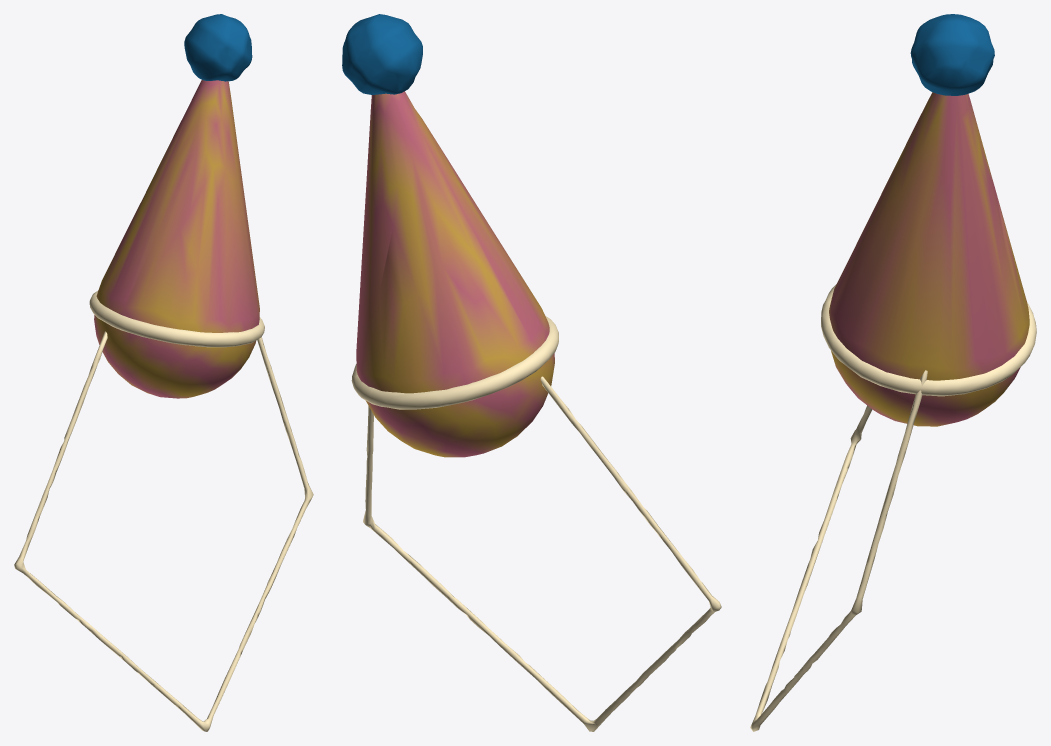
The model's file is nonsinhnhat.glb.
3 renders of one model, left to right at view 1: azimuth 30°, elevation 25°; view 2: azimuth 150°, elevation 25°; view 3: azimuth 270°, elevation 25°, orthographic. The views are drawn at different scales.
Parts seen in each view (by area): view 1: Non_SN, Thun_SN, Bong_SN, Vien_SN; view 2: Non_SN, Thun_SN, Bong_SN, Vien_SN; view 3: Non_SN, Bong_SN, Thun_SN, Vien_SN.
Boxes of the visible parts, x1,y1,x2,y2 form: Non_SN: [94, 80, 259, 398]; Thun_SN: [14, 331, 313, 731]; Bong_SN: [184, 14, 252, 81]; Vien_SN: [89, 290, 264, 347]; Non_SN: [356, 91, 554, 457]; Thun_SN: [363, 376, 721, 731]; Bong_SN: [342, 14, 422, 94]; Vien_SN: [351, 316, 558, 409]; Non_SN: [829, 92, 1029, 426]; Bong_SN: [910, 14, 994, 95]; Thun_SN: [750, 370, 927, 731]; Vien_SN: [821, 284, 1036, 396].
Bounding box in the file's own units: 0.174 × 0.3528 × 0.119.
